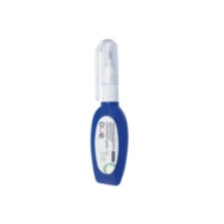correction_fluid: (87, 33, 131, 190)
